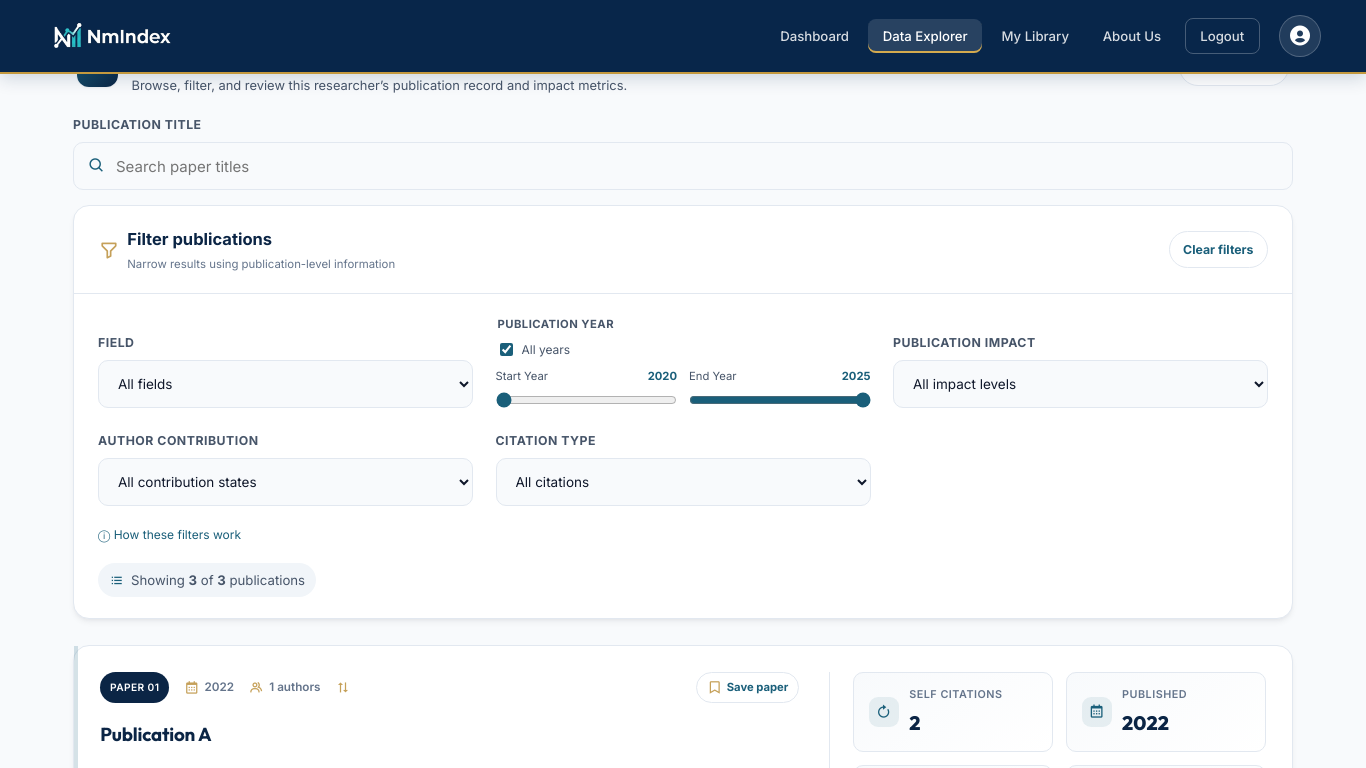
it: combined filters are sent to the server and the list is replaced by its answer
(page scrolled)
Expected: the heading "Publication A" is shown, [100,722,212,746]
Step 1. Select "Computer Science" in the dropdown labelled "FIELD" → (286, 384), box [98,360,473,408]
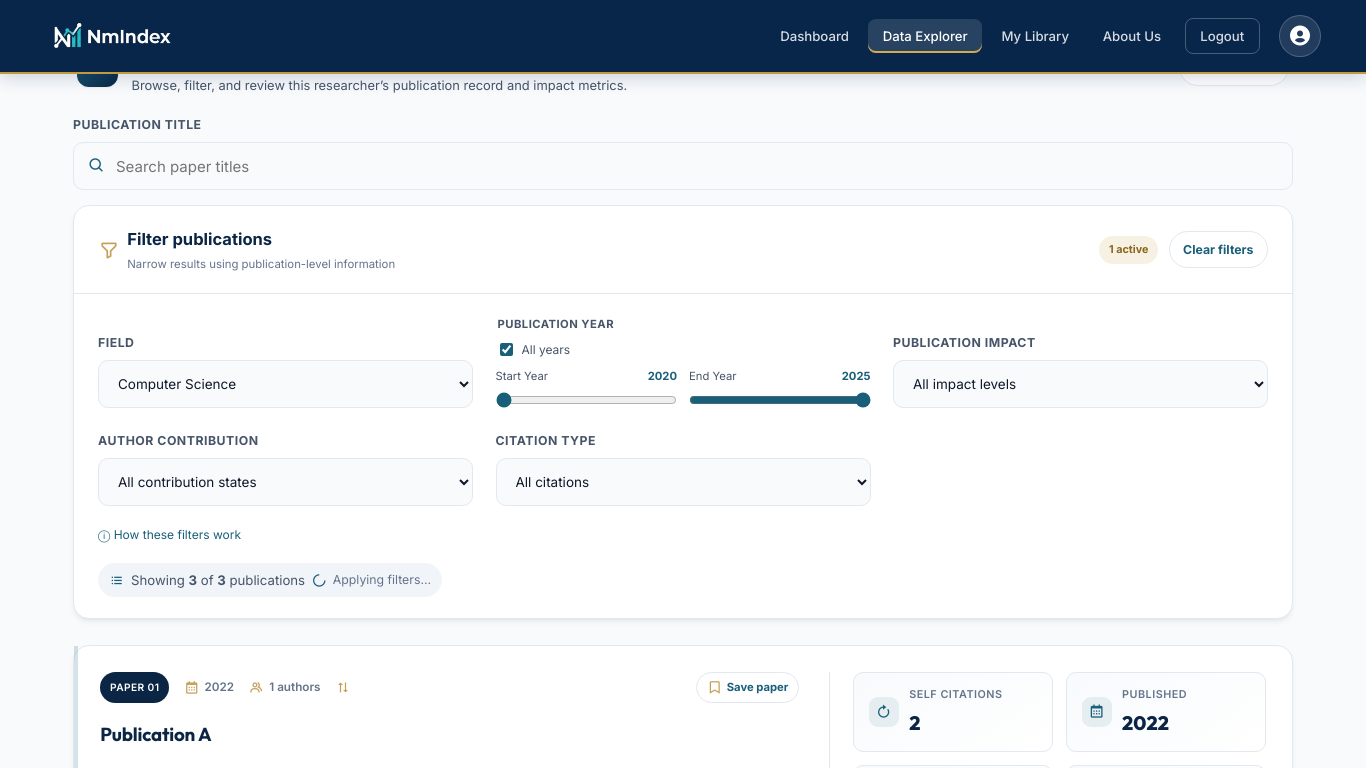
Step 2. Set the slider labelled "Start Year 2020" to "2022" → (570, 400), box [496,392,677,408]
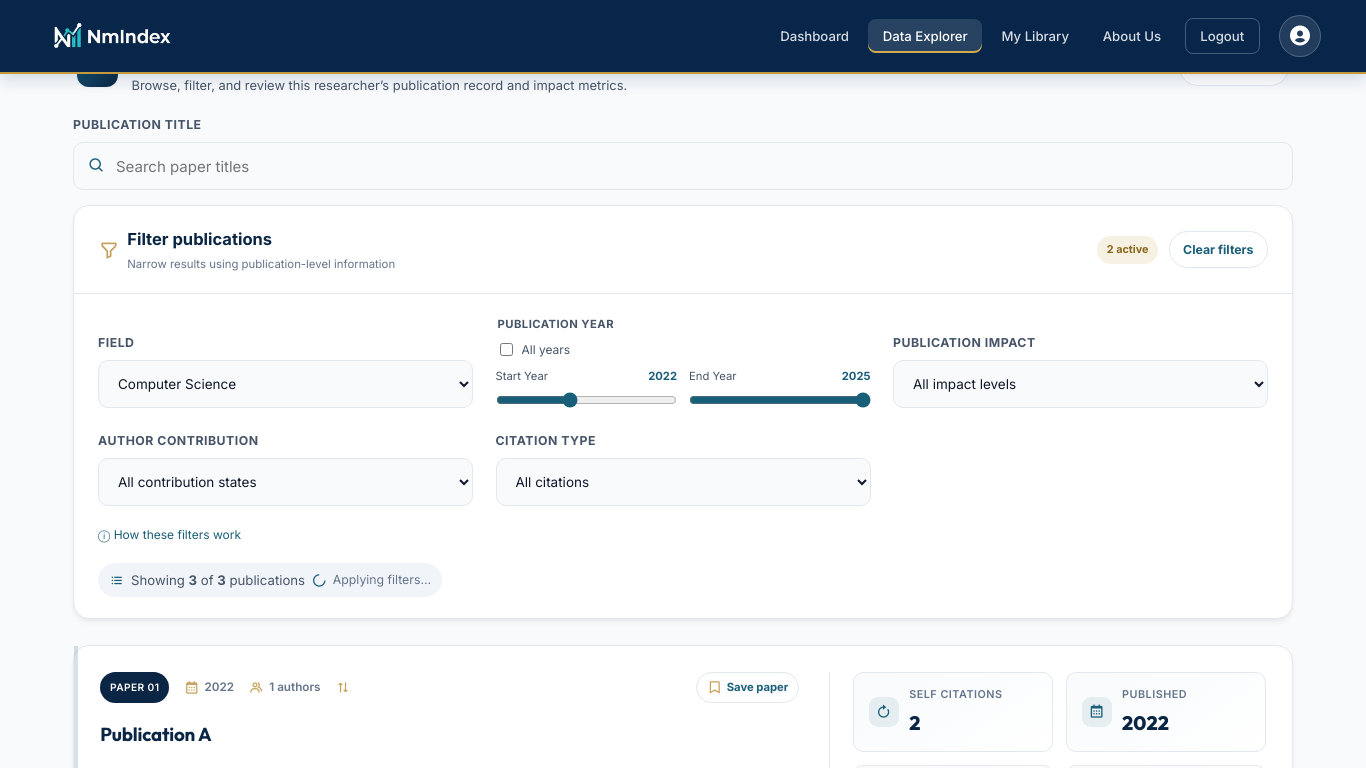
Step 3. Select "Adjusted Citations" in the dropdown labelled "CITATION TYPE" → (683, 482), box [496,458,870,506]
(page scrolled)
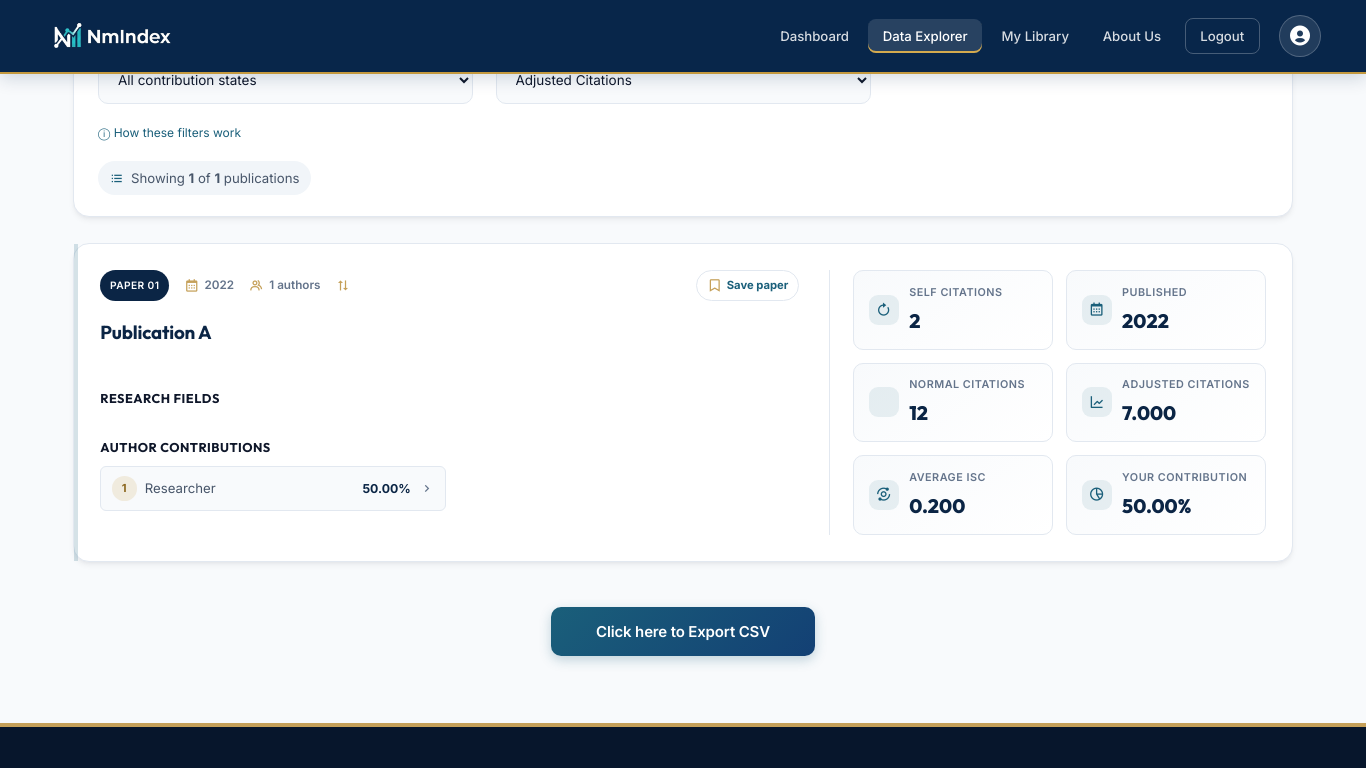
Expected: the heading "Publication A" is shown, [100,320,212,344]
Expected: the text "Showing" reads "Showing 1 of 1 publications", [131,168,299,189]
